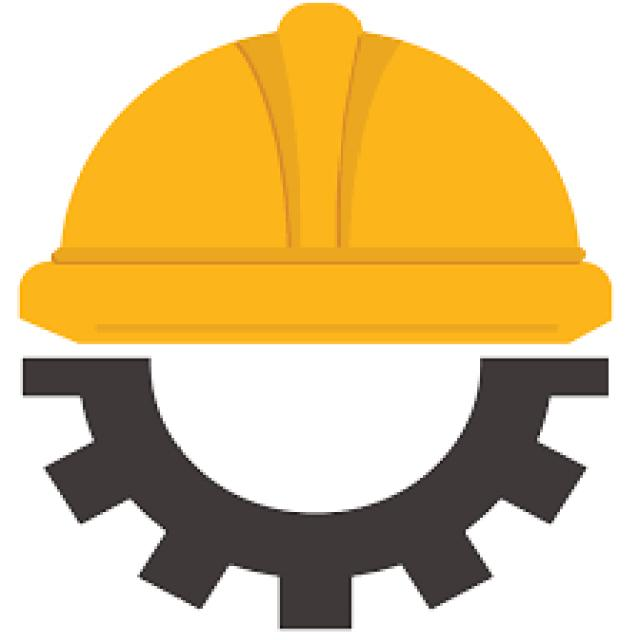Safety-Helmet: (12, 22, 597, 352)
